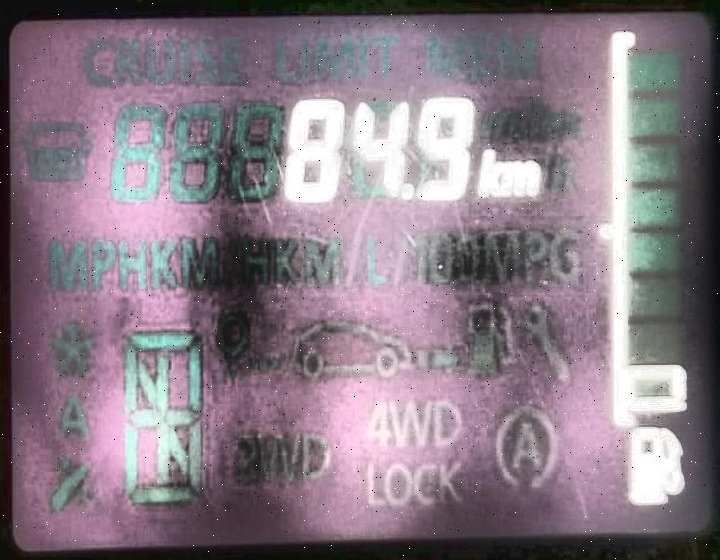-: (399, 180, 414, 201)
4: (349, 98, 409, 199)
8: (280, 96, 345, 203)
9: (415, 94, 475, 202)
X: (476, 145, 503, 199), (503, 158, 540, 196)
